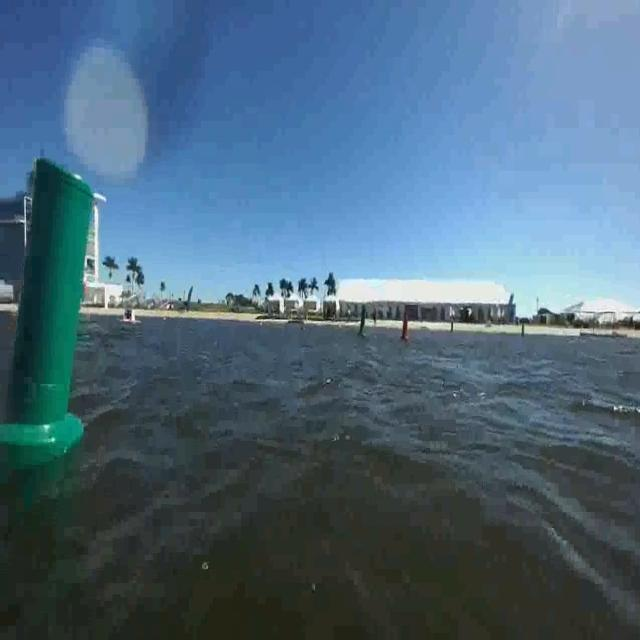green-column-buoy: (1, 147, 97, 453), (357, 303, 369, 339)
red-column-buoy: (401, 310, 413, 344)
